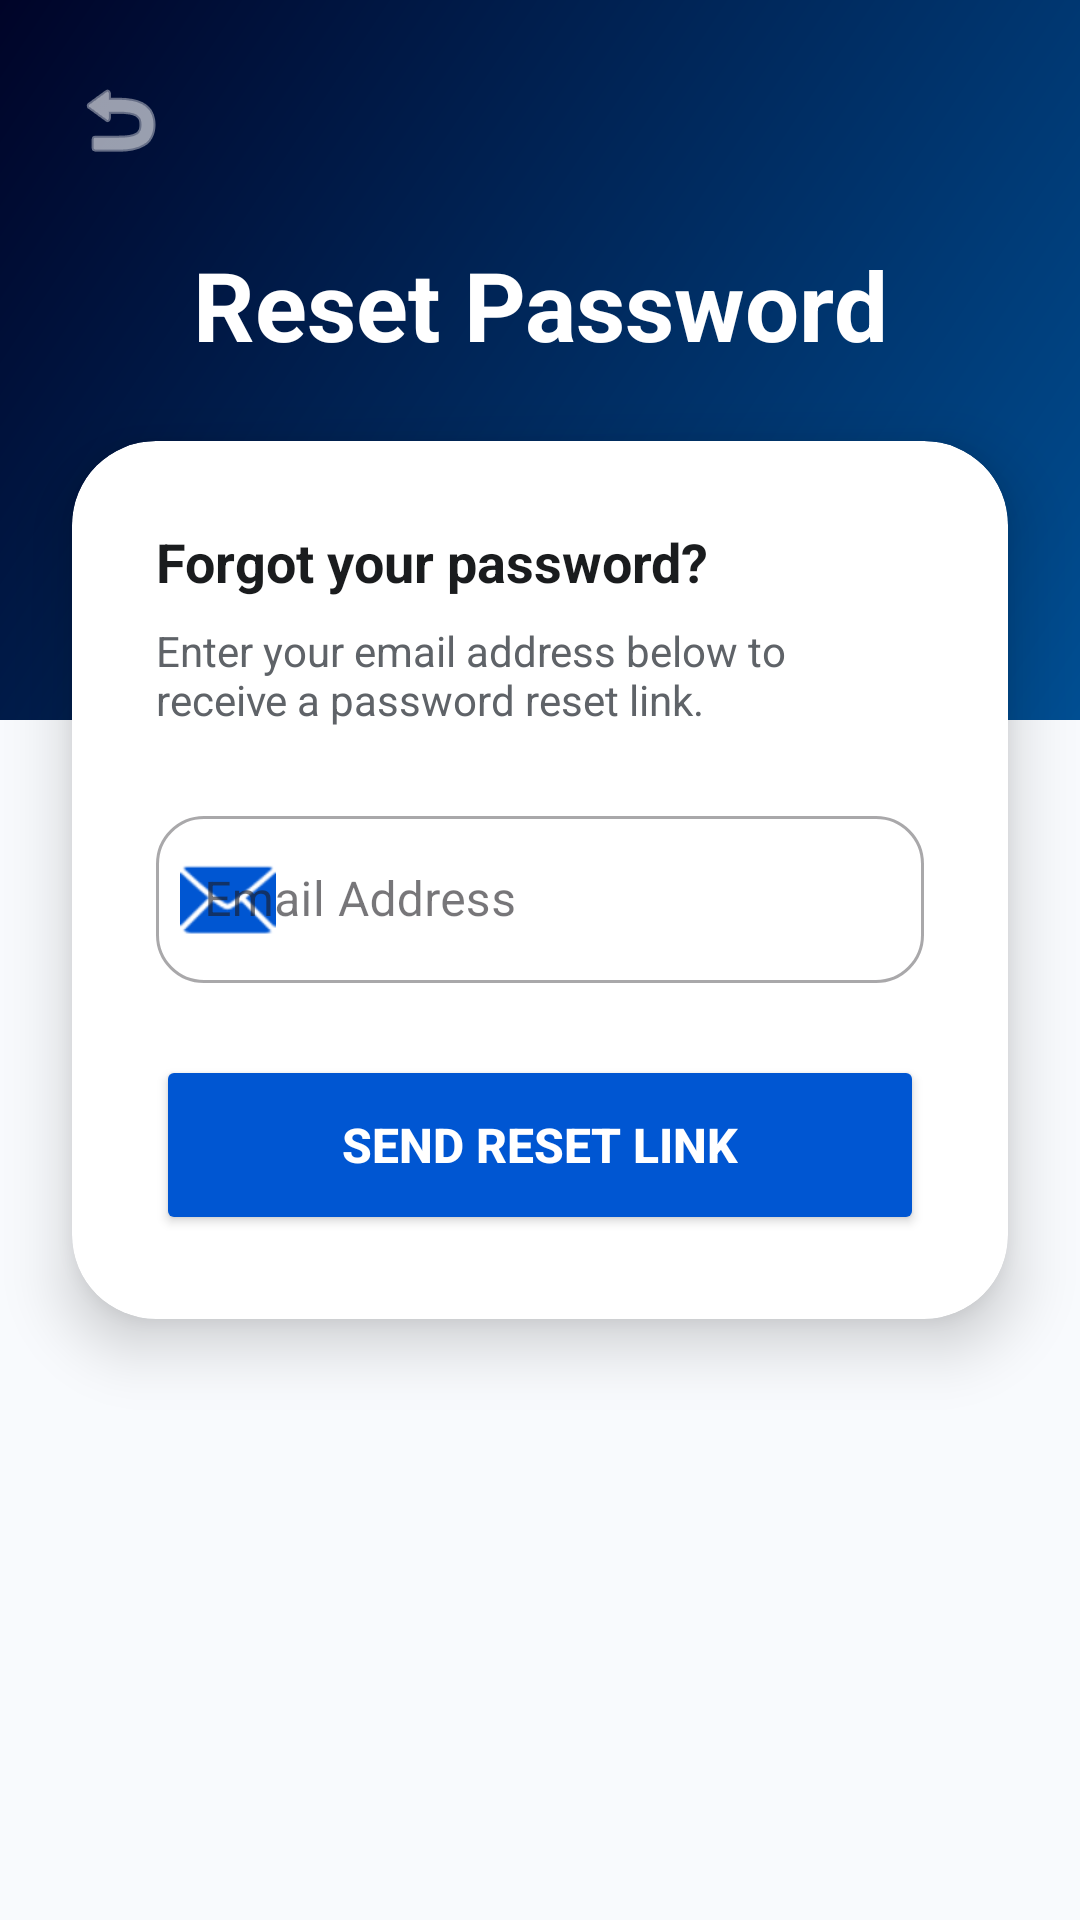

Point at icon controls on the screen. Image size 1080x1920, points as (x,y).
revert: (121,120)
